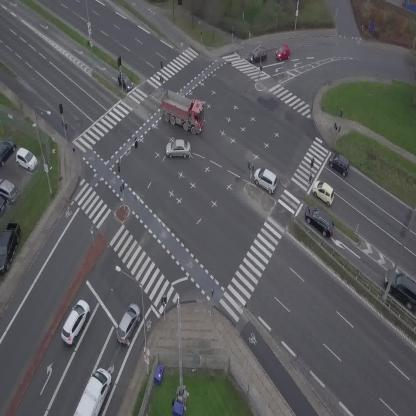car: (57, 297, 95, 347), (299, 201, 340, 241), (113, 300, 144, 346), (250, 164, 282, 195), (308, 176, 340, 207), (326, 150, 354, 176), (113, 71, 135, 94), (166, 139, 191, 158), (247, 47, 269, 64), (273, 45, 292, 61)
lorry: (153, 86, 211, 136), (73, 365, 117, 416)
